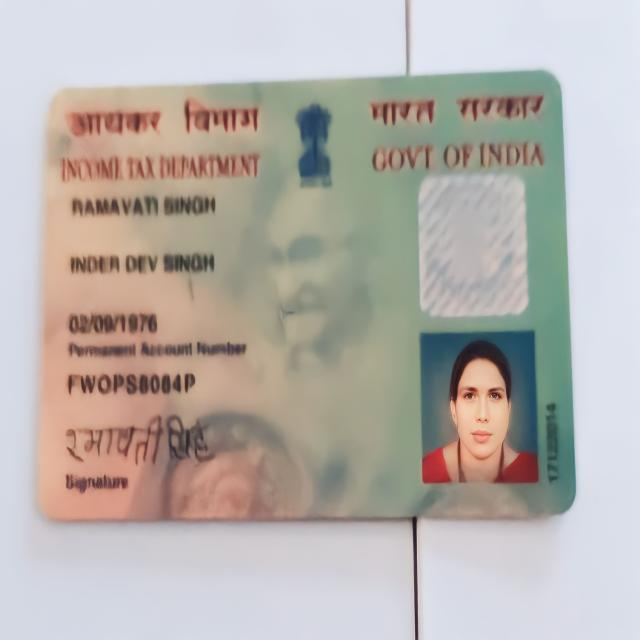pan_card: (42, 78, 572, 512)
